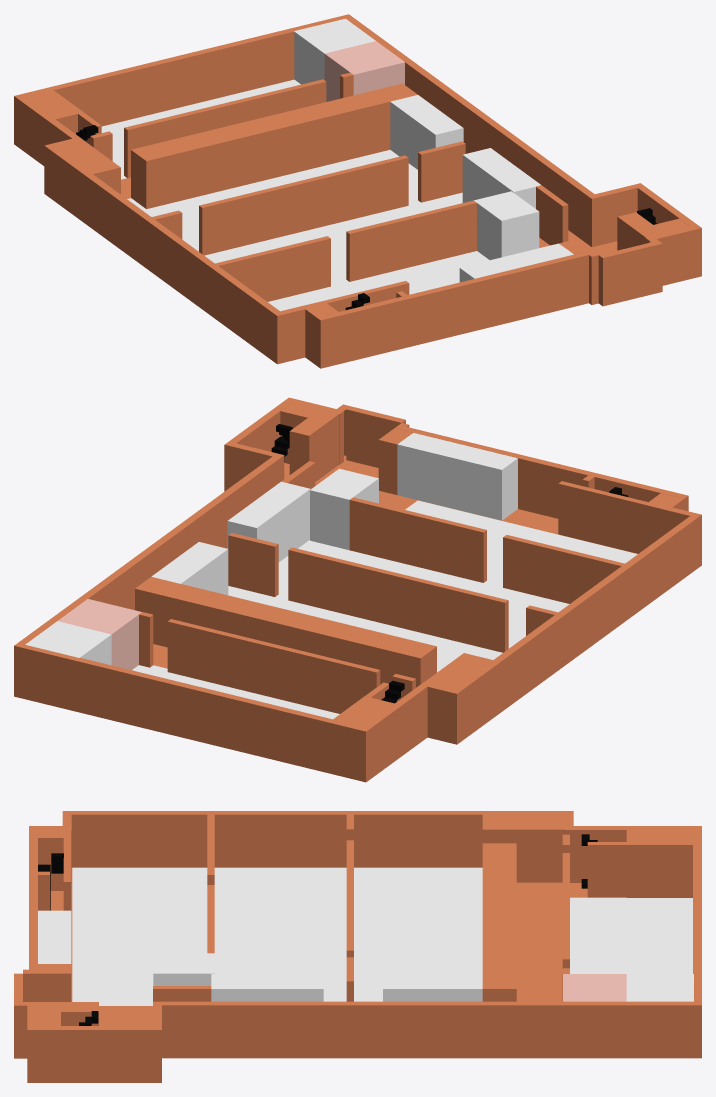
3 views of the same model, one above another, from view 1: azimuth 30°, elevation 25°; view 2: azimuth 150°, elevation 25°; view 3: azimuth 270°, elevation 25° (orthographic). The views are drawn at different scales.
Parts seen in each view (by area): view 1: object, 卓球場B_g_B1_1, 用具庫_g_B1_4, 柔道場_g_B1_1, 卓球場A_g_B1_1, 用具庫_g_B1_2, 用具庫_g_B1_3, 用具庫_g_B1_1, 男子トイレ_g_B1_1, トレーニング室_g_B1_1, 用具庫_g_B1_5, 女子トイレ_g_B1_1; view 2: object, 用具庫_g_B1_5, 卓球場B_g_B1_1, 用具庫_g_B1_3, 柔道場_g_B1_1, 用具庫_g_B1_4, 卓球場A_g_B1_1, 用具庫_g_B1_2, 用具庫_g_B1_1, 男子トイレ_g_B1_1, トレーニング室_g_B1_1, 女子トイレ_g_B1_1; view 3: object, 柔道場_g_B1_1, 卓球場B_g_B1_1, 卓球場A_g_B1_1, トレーニング室_g_B1_1, 用具庫_g_B1_3, 用具庫_g_B1_2, 用具庫_g_B1_4, 用具庫_g_B1_1, 用具庫_g_B1_5, 男子トイレ_g_B1_1, 女子トイレ_g_B1_1.
Boxes of the visible parts, x1=… form: object: x1=14, y1=14, x2=701, y2=368; 卓球場B_g_B1_1: x1=204, y1=192, x2=462, y2=284; 用具庫_g_B1_4: x1=474, y1=191, x2=539, y2=259; 柔道場_g_B1_1: x1=268, y1=251, x2=489, y2=311; 卓球場A_g_B1_1: x1=127, y1=150, x2=418, y2=251; 用具庫_g_B1_2: x1=390, y1=95, x2=463, y2=169; 用具庫_g_B1_3: x1=462, y1=148, x2=540, y2=208; 用具庫_g_B1_1: x1=294, y1=18, x2=375, y2=84; 男子トイレ_g_B1_1: x1=324, y1=47, x2=379, y2=101; トレーニング室_g_B1_1: x1=101, y1=79, x2=300, y2=179; 用具庫_g_B1_5: x1=459, y1=243, x2=573, y2=282; 女子トイレ_g_B1_1: x1=351, y1=41, x2=404, y2=88; object: x1=14, y1=397, x2=701, y2=782; 用具庫_g_B1_5: x1=397, y1=433, x2=517, y2=520; 卓球場B_g_B1_1: x1=277, y1=540, x2=569, y2=648; 用具庫_g_B1_3: x1=227, y1=481, x2=310, y2=562; 柔道場_g_B1_1: x1=405, y1=500, x2=637, y2=585; 用具庫_g_B1_4: x1=310, y1=468, x2=378, y2=550; 卓球場A_g_B1_1: x1=228, y1=586, x2=502, y2=672; 用具庫_g_B1_2: x1=151, y1=542, x2=228, y2=595; 用具庫_g_B1_1: x1=25, y1=621, x2=111, y2=665; 男子トイレ_g_B1_1: x1=84, y1=605, x2=141, y2=670; トレーニング室_g_B1_1: x1=132, y1=665, x2=339, y2=719; 女子トイレ_g_B1_1: x1=58, y1=599, x2=113, y2=627; object: x1=14, y1=811, x2=701, y2=1082; 柔道場_g_B1_1: x1=72, y1=867, x2=207, y2=1005; 卓球場B_g_B1_1: x1=214, y1=867, x2=346, y2=1001; 卓球場A_g_B1_1: x1=354, y1=867, x2=482, y2=1001; トレーニング室_g_B1_1: x1=570, y1=897, x2=692, y2=973; 用具庫_g_B1_3: x1=211, y1=974, x2=323, y2=1001; 用具庫_g_B1_2: x1=383, y1=974, x2=482, y2=1001; 用具庫_g_B1_4: x1=153, y1=953, x2=214, y2=985; 用具庫_g_B1_1: x1=626, y1=974, x2=693, y2=1001; 用具庫_g_B1_5: x1=38, y1=910, x2=71, y2=963; 男子トイレ_g_B1_1: x1=563, y1=974, x2=626, y2=988; 女子トイレ_g_B1_1: x1=563, y1=988, x2=626, y2=1001.
Bounding box in the file's own units: 1.45 × 0.1736 × 1.93.
